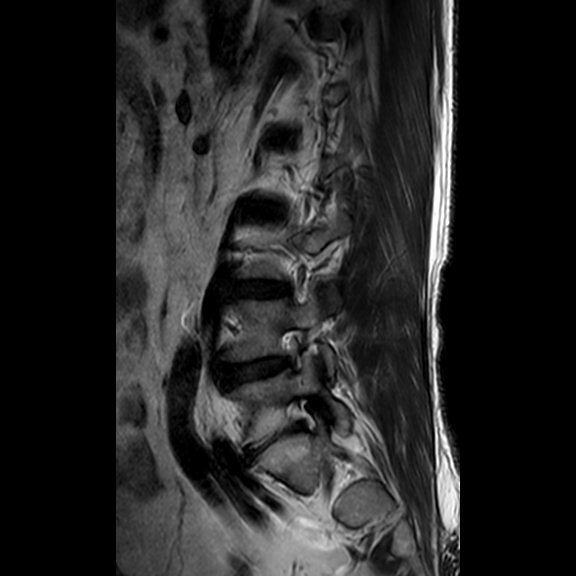LFS2: (269, 316, 315, 383)
